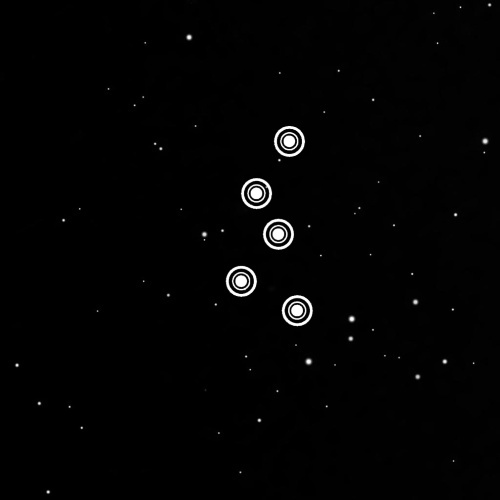cassiopeia: (213, 112, 324, 341)
